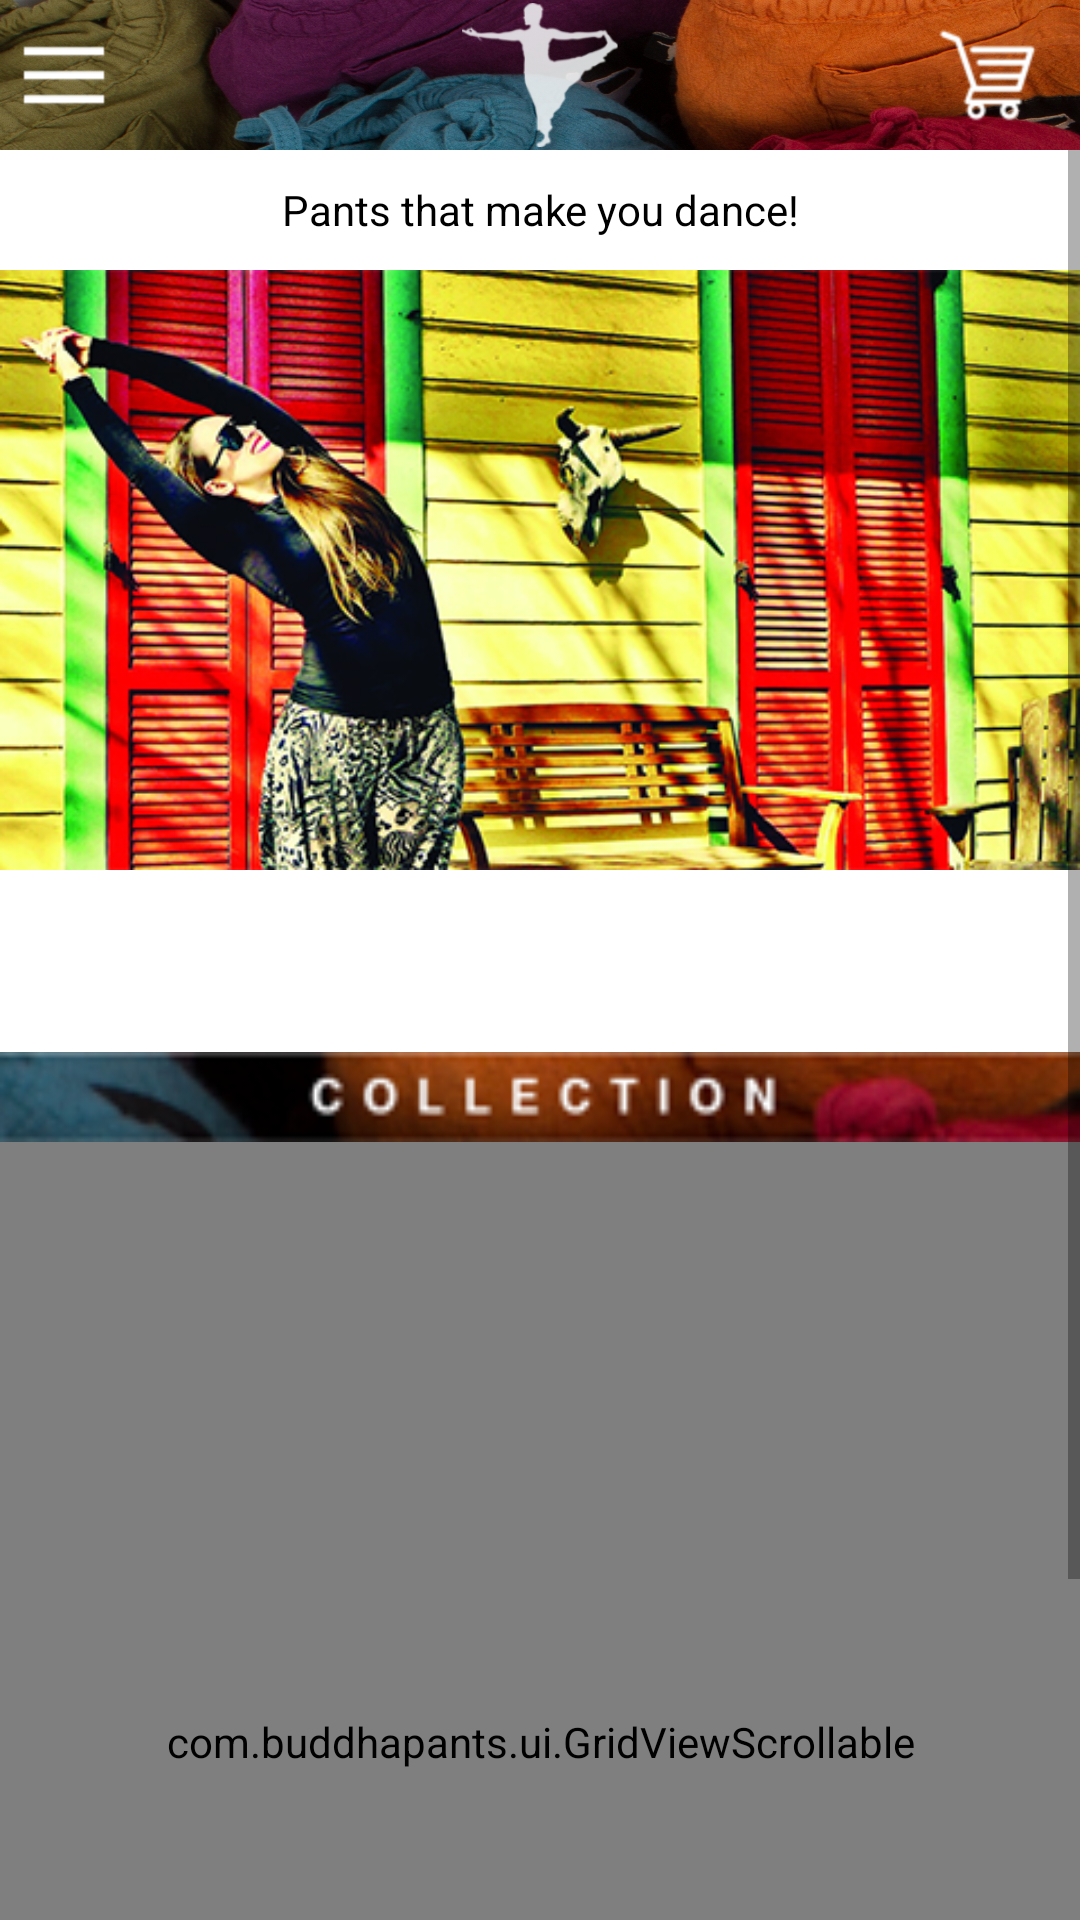

Screen size 1080*1920. Icon name, then its center in pixels as [x,y]:
addcart: [987,75]
drawer: [64,75]
